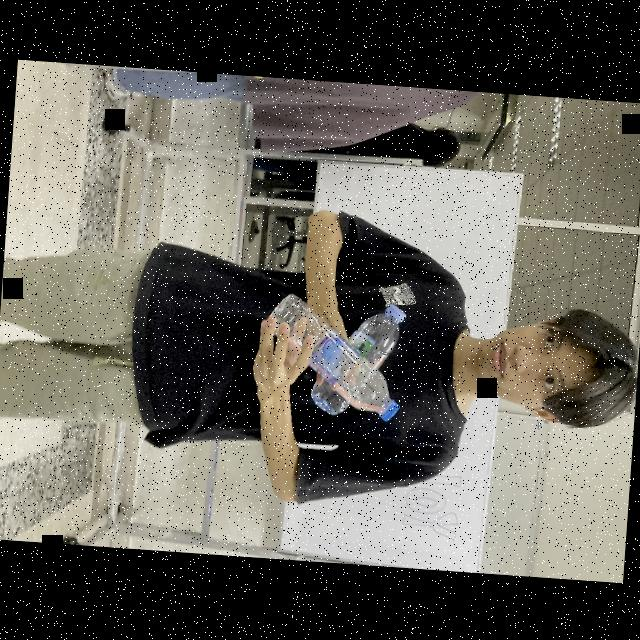plastic_bottle: (258, 292, 408, 421), (306, 296, 404, 416)
plastic_bottle_cap: (374, 394, 400, 422), (382, 300, 407, 324)
